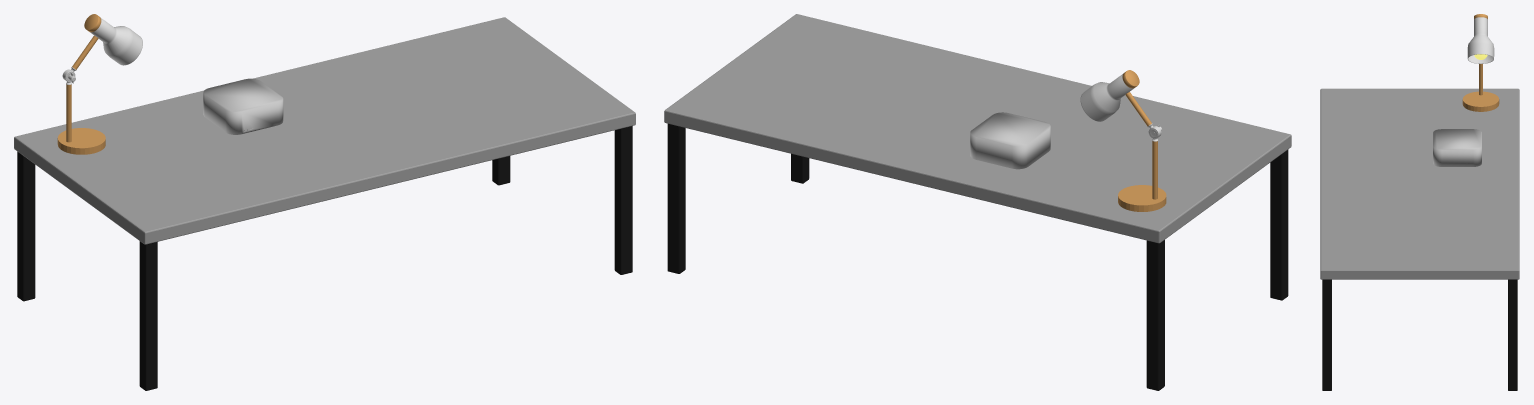
File: Bureau.glb
The picture shows the model from 3 angles, left to right: view 1: azimuth 30°, elevation 25°; view 2: azimuth 150°, elevation 25°; view 3: azimuth 270°, elevation 25°; orthographic projection. The views are drawn at different scales.
Visible parts, largest first — view 1: Table, Cube, Cylinder, Cylinder.002; view 2: Table, Cube, Cylinder.002, Cylinder; view 3: Table, Cube, Cylinder.002, Cylinder.
Boxes of the visible parts, x1,y1,x2,y2 form: Table: [14, 17, 635, 390]; Cube: [203, 78, 283, 134]; Cylinder: [57, 35, 105, 154]; Cylinder.002: [84, 14, 142, 65]; Table: [664, 14, 1291, 390]; Cube: [970, 112, 1050, 169]; Cylinder.002: [1080, 70, 1139, 121]; Cylinder: [1118, 92, 1166, 211]; Table: [1320, 88, 1519, 390]; Cube: [1433, 129, 1481, 166]; Cylinder.002: [1467, 14, 1494, 63]; Cylinder: [1462, 64, 1499, 111].
Bounding box in the file's own units: 8 × 4.46 × 3.7.
